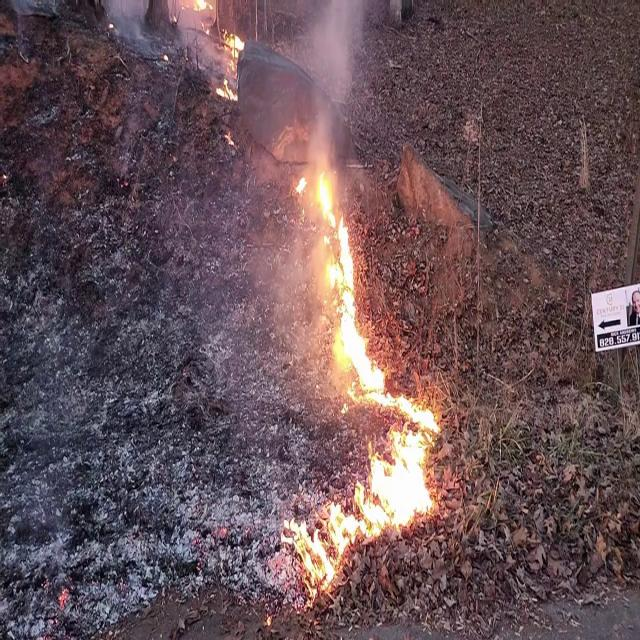Fire: (287, 156, 447, 590), (192, 0, 247, 107)
Smoke: (288, 0, 371, 158)
